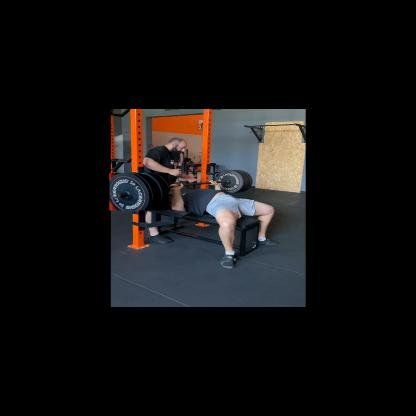barbell: (109, 173, 169, 211)
